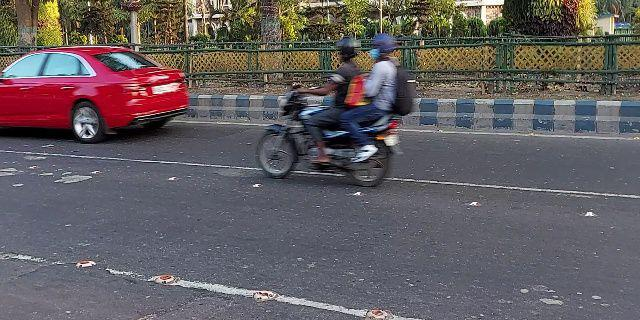Car: (1, 42, 195, 145)
Motorbike: (252, 33, 415, 191)
